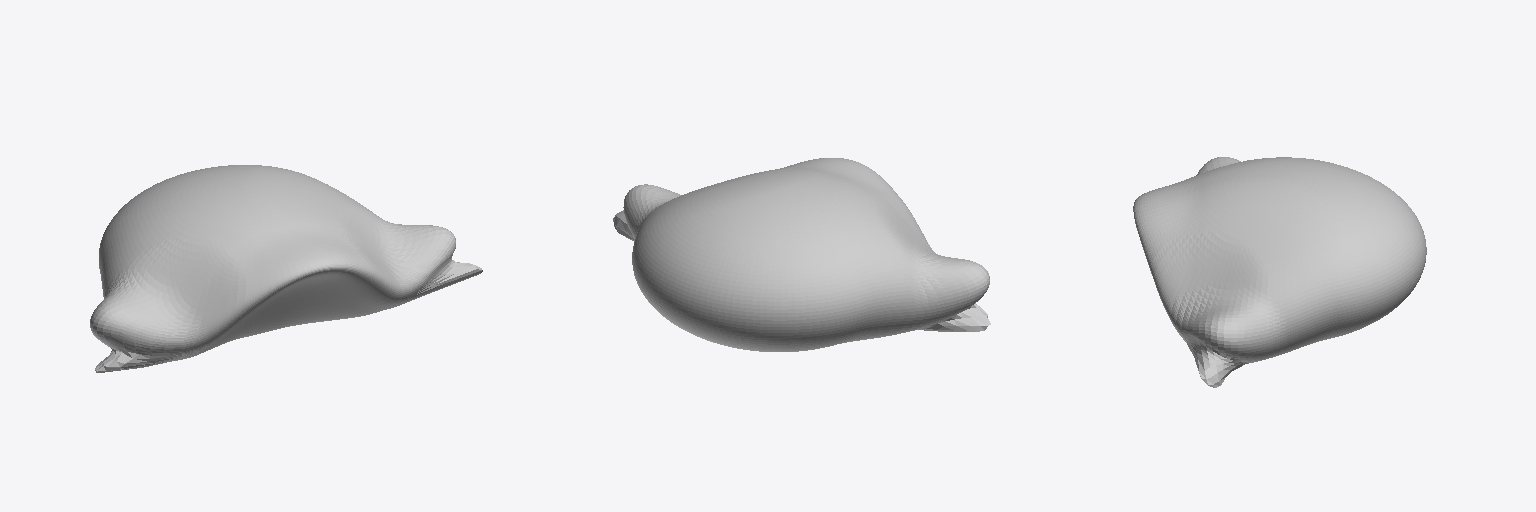
File: Beardtop.obj
3 views of the same model, side by side, from view 1: azimuth 30°, elevation 25°; view 2: azimuth 150°, elevation 25°; view 3: azimuth 270°, elevation 25° (orthographic).
Visible parts, largest first — view 1: Group25195; view 2: Group25195; view 3: Group25195.
Boxes of the visible parts, x1,y1,x2,y2 form: Group25195: [90, 165, 482, 372]; Group25195: [613, 158, 990, 351]; Group25195: [1133, 157, 1426, 387].
Bounding box in the file's own units: 3.01 × 1.06 × 2.